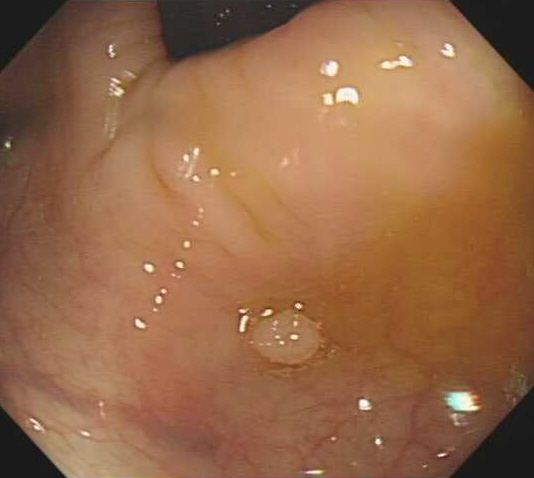others: (242, 303, 326, 368)
